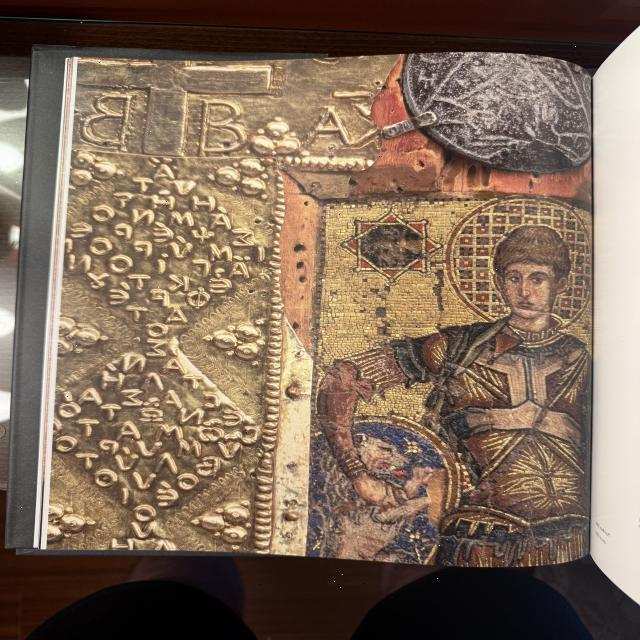aura: (436, 197, 595, 331)
shield: (301, 415, 457, 559)
st_george: (309, 207, 597, 559)
